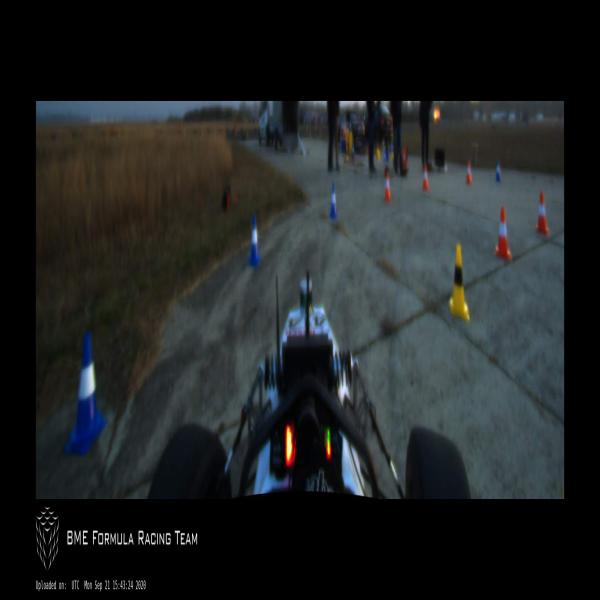blue_cone: (63, 330, 107, 457), (248, 213, 260, 268), (329, 183, 338, 218), (496, 158, 502, 183)
orange_cone: (495, 206, 512, 262), (536, 191, 549, 235), (384, 170, 391, 202), (466, 159, 472, 184), (423, 164, 428, 191)
yellow_cone: (449, 244, 470, 321), (344, 146, 349, 162)
